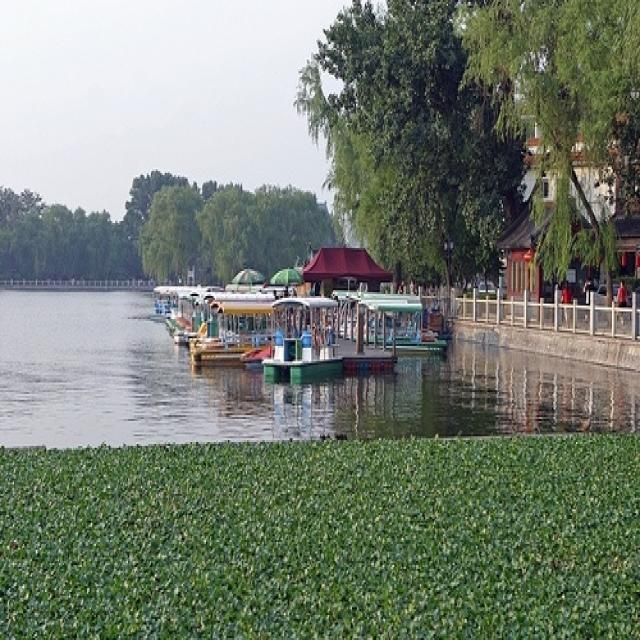Hyacinth: (8, 428, 640, 639)
